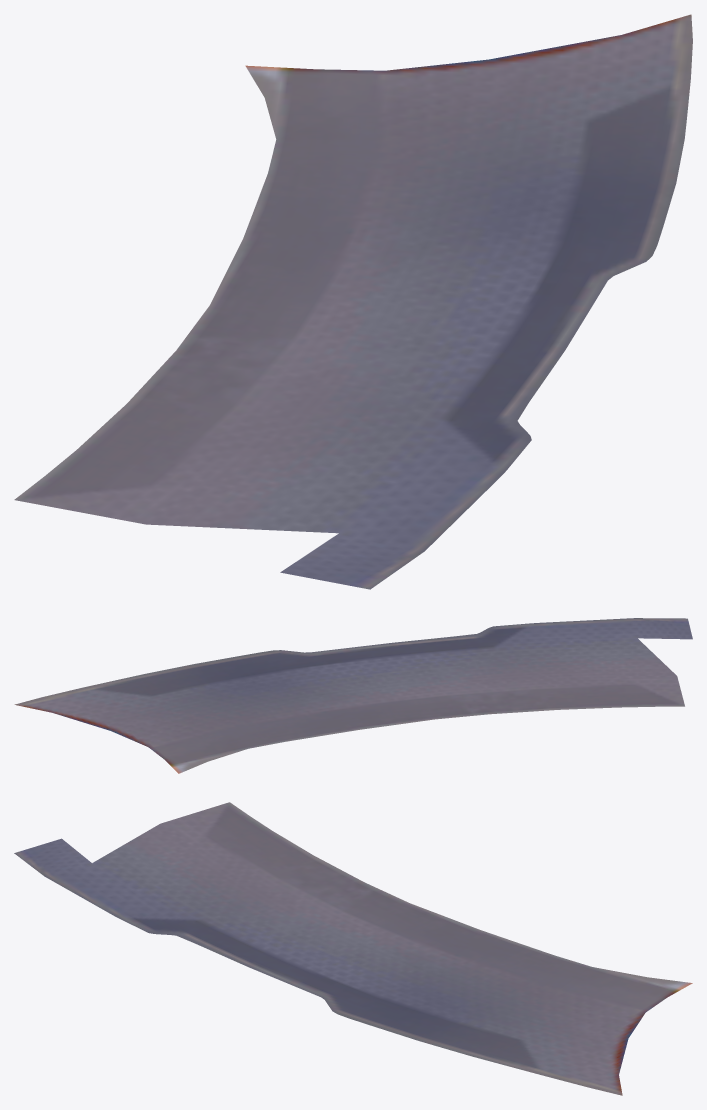
File: pref_fx_redslowareaeffect_beta03_roada_01_lv0.fbx
The picture shows the model from 3 angles, top to bottom: view 1: azimuth 30°, elevation 25°; view 2: azimuth 150°, elevation 25°; view 3: azimuth 270°, elevation 25°; orthographic projection. The views are drawn at different scales.
Parts seen in each view (by area): view 1: color (1); view 2: color (1); view 3: color (1).
Part boxes in pixels (x1,y1,x2,y2): color (1): [14, 14, 692, 589]; color (1): [14, 618, 692, 773]; color (1): [14, 802, 692, 1095].
Bounding box in the file's own units: 20.22 × 0.0303 × 19.8.
